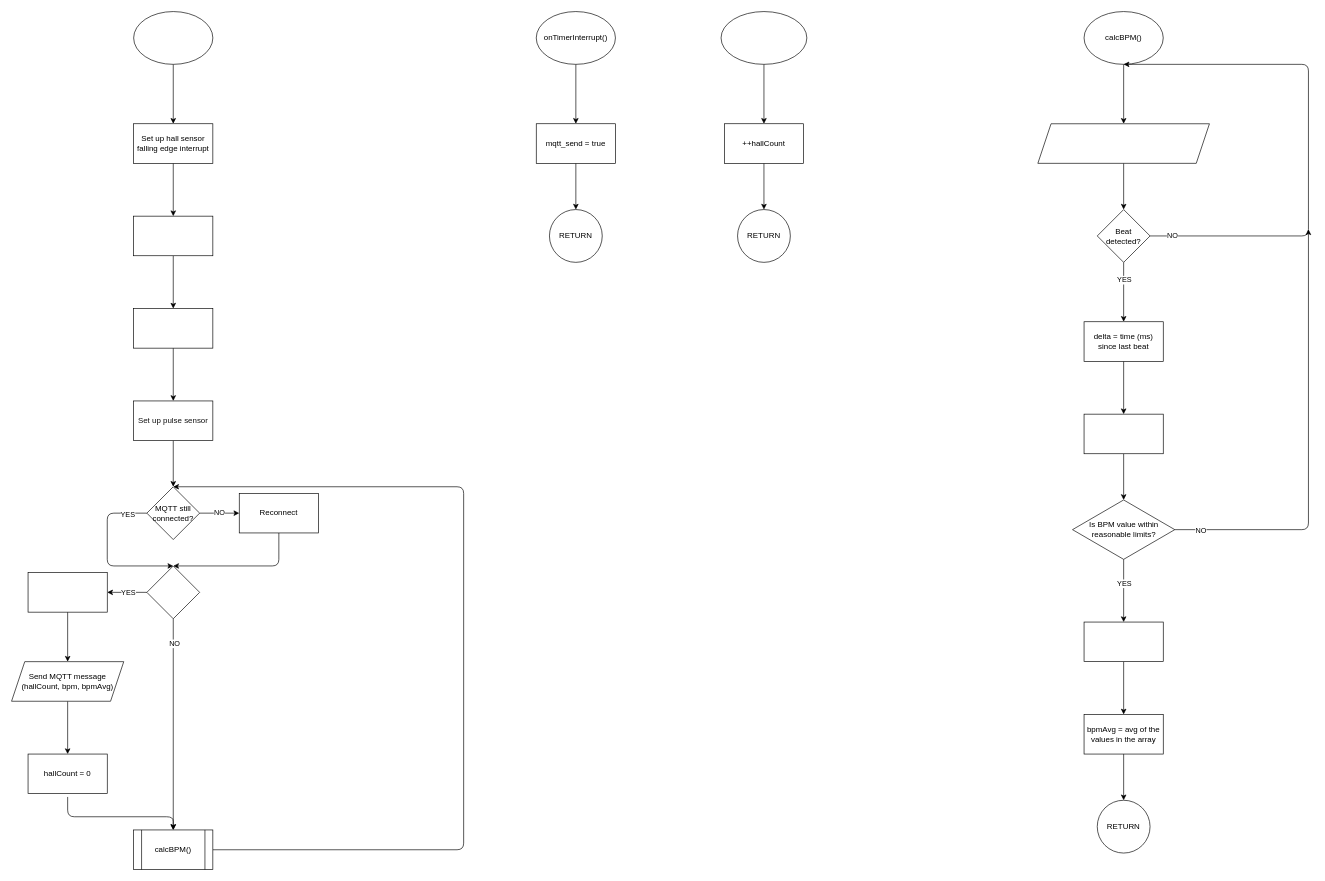
Image size: 1325x881. Some labels were removed from this diagram. Here are the shapes that lost their labels. From the top down, the centre of each, then its label:
At pixel 173 37: "START".
At pixel 763 37: "onHallsensorInterrupt()".
At pixel 1123 143: "Read raw infrared value from pulse sensor".
At pixel 173 235: "Connect to Wi-Fi and MQTT".
At pixel 173 328: "Set up timer interrupt (for transmission scheduling)".
At pixel 1123 433: "bpm = 60 / (delta / 1000)".
At pixel 67 592: "mqtt_send = false".
At pixel 173 592: "mqtt_send == true".
At pixel 1123 641: "Store it in array to calculate moving avg BPM".
